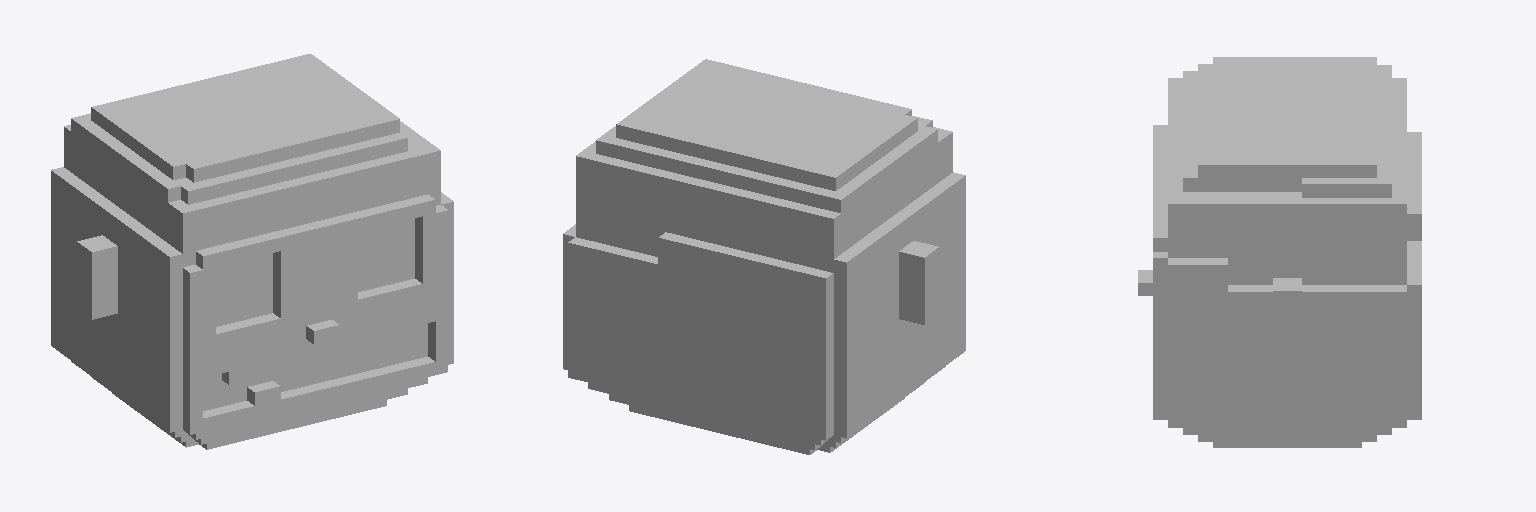
Rendered from GGJ zombie head.obj.
The picture shows the model from 3 angles: view 1: azimuth 30°, elevation 25°; view 2: azimuth 150°, elevation 25°; view 3: azimuth 270°, elevation 25°; orthographic projection.
Parts seen in each view (by area): view 1: object 1; view 2: object 1; view 3: object 1.
Boxes of the visible parts, x1=… form: object 1: x1=51, y1=54, x2=453, y2=449; object 1: x1=563, y1=59, x2=965, y2=454; object 1: x1=1138, y1=57, x2=1421, y2=447.
Size of the model in its own units: 2.6 by 2.1 by 1.9.